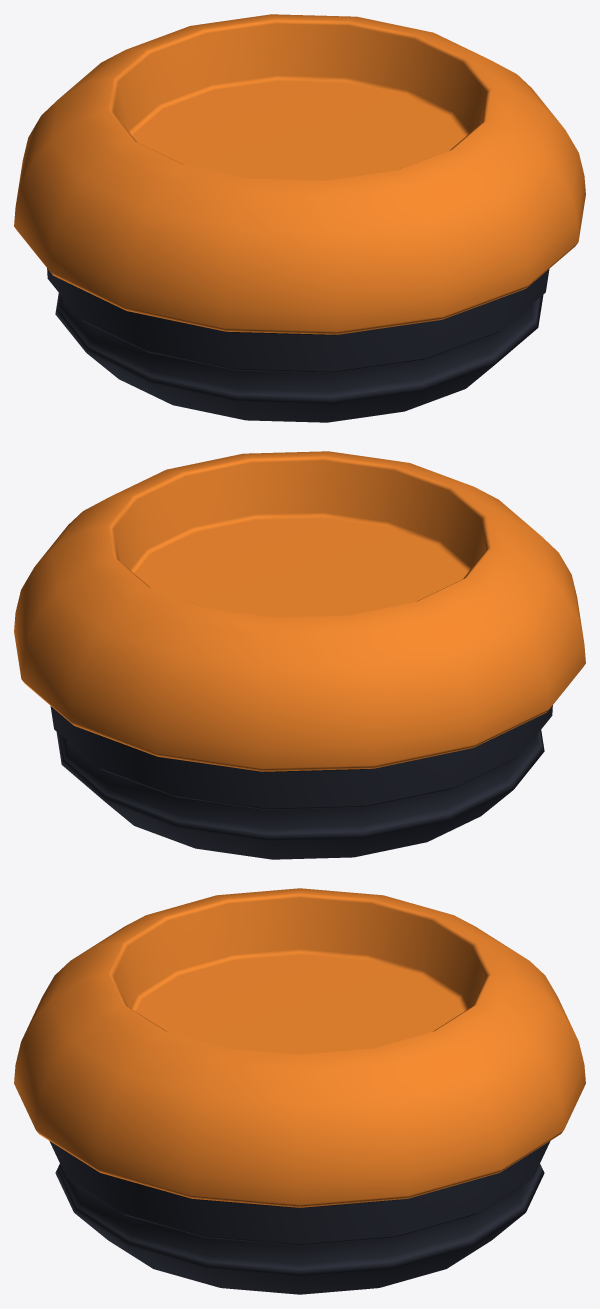
Rendered from SM_PlantPot_04.fbx.
3 renders of one model, top to bottom at view 1: azimuth 30°, elevation 25°; view 2: azimuth 150°, elevation 25°; view 3: azimuth 270°, elevation 25°, orthographic.
Parts seen in each view (by area): view 1: SM_Pot_04; view 2: SM_Pot_04; view 3: SM_Pot_04.
Part boxes in pixels (x1,y1,x2,y2): SM_Pot_04: (14,14,585,422); SM_Pot_04: (14,451,585,859); SM_Pot_04: (14,888,585,1294).
Size of the model in its own units: 238 by 108 by 238.
